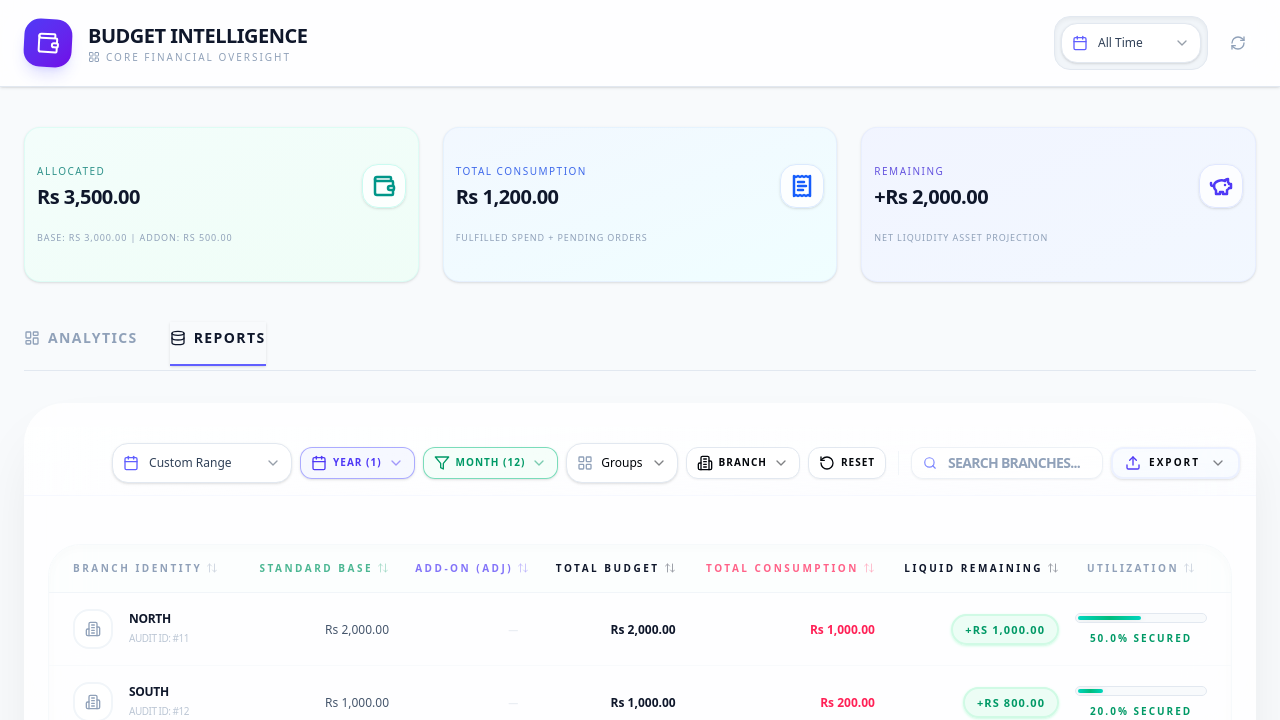
Test: Budget Summary report › lists every branch on the reports tab, marks the overspent one, and filters by name
The width and height of the screenshot is (1280, 720).
Expected: the text "North" is shown, [129,610,171,627]
Expected: the text "South" is shown, [129,683,169,700]
Type "sou" into the field with placeholder "SEARCH BRANCHES...".
click(1007, 462); type("sou")  # box [911,446,1103,478]
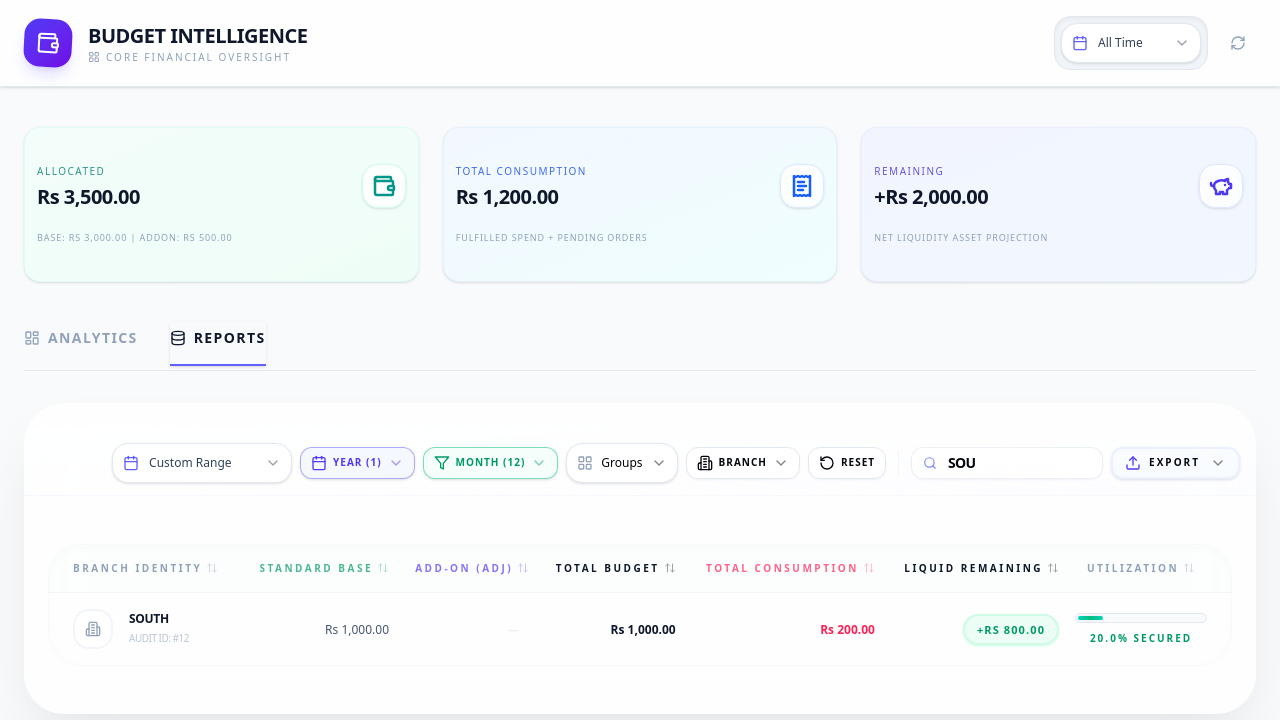
Expected: the text "South" is shown, [129,610,169,627]
Expected: the text "North" is gone
Replace the text in the field with placeholder "SEARCH BRANCHES..." with "nothing-like-it" at (1007, 462), box [911,446,1103,478]
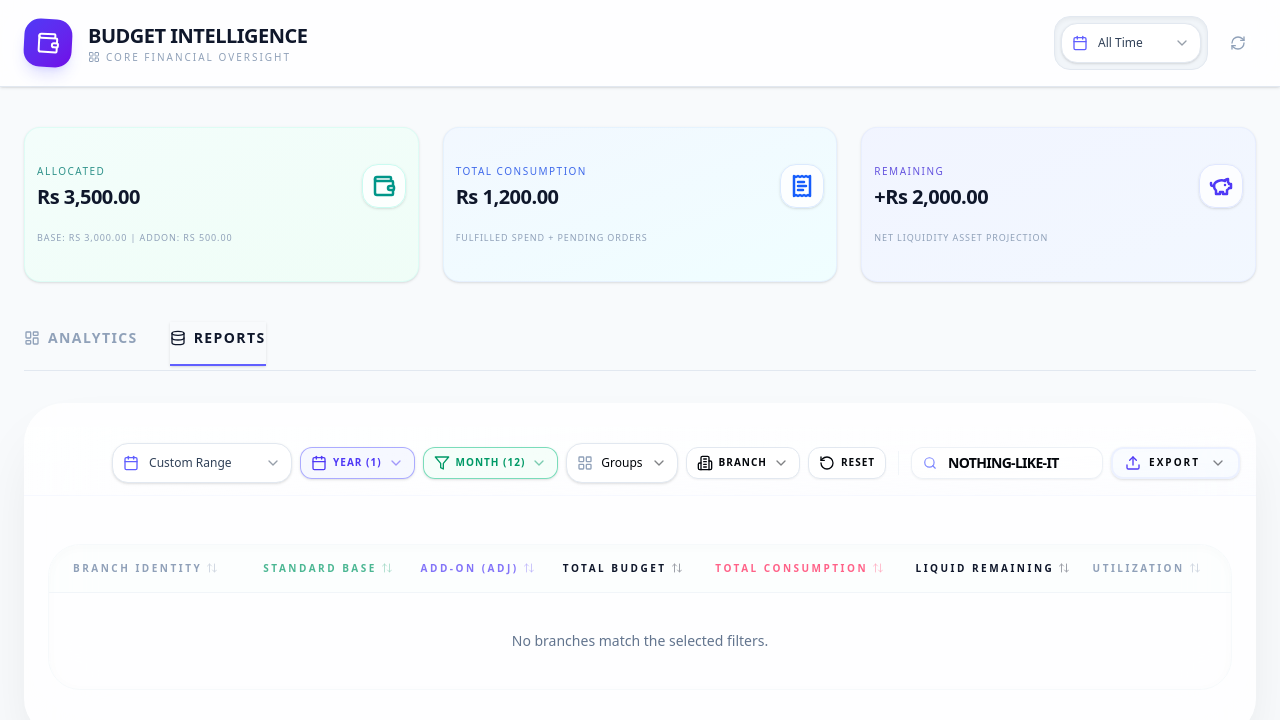
Expected: the text "No branches match the selected filters." is shown, [49,592,1231,688]
